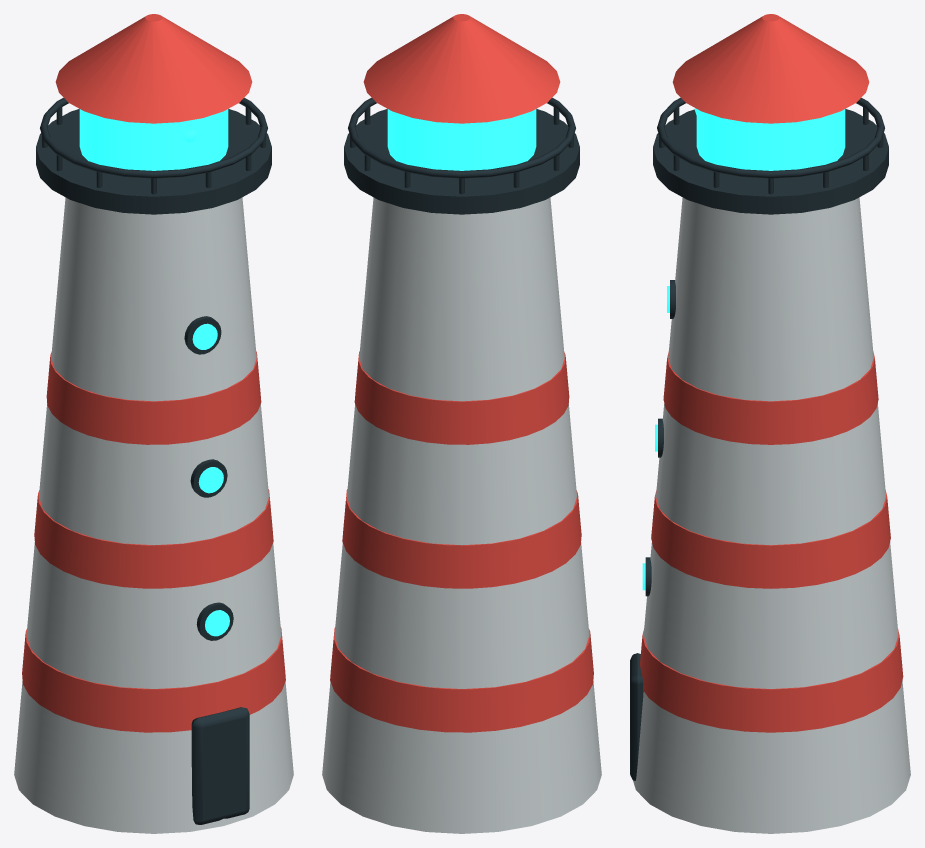
Rendered from lighthouse.glb.
3 renders of one model, left to right at view 1: azimuth 30°, elevation 25°; view 2: azimuth 150°, elevation 25°; view 3: azimuth 270°, elevation 25°, orthographic.
Parts seen in each view (by area): view 1: Tower, RedBand, Door, BeamAnchor; view 2: Tower, RedBand, Door, BeamAnchor; view 3: Tower, RedBand, Door, BeamAnchor.
Boxes of the visible parts, left/top/right/bottom form: Tower: left=14, top=197, right=293, bottom=833; RedBand: left=22, top=14, right=285, bottom=732; Door: left=36, top=97, right=271, bottom=824; BeamAnchor: left=79, top=109, right=229, bottom=636; Tower: left=322, top=197, right=601, bottom=833; RedBand: left=330, top=14, right=593, bottom=732; Door: left=344, top=97, right=579, bottom=214; BeamAnchor: left=387, top=109, right=536, bottom=170; Tower: left=633, top=197, right=910, bottom=833; RedBand: left=640, top=14, right=903, bottom=732; Door: left=630, top=97, right=888, bottom=780; BeamAnchor: left=642, top=108, right=845, bottom=590.
Bounding box in the file's own units: 2.56 × 7.64 × 2.57.
